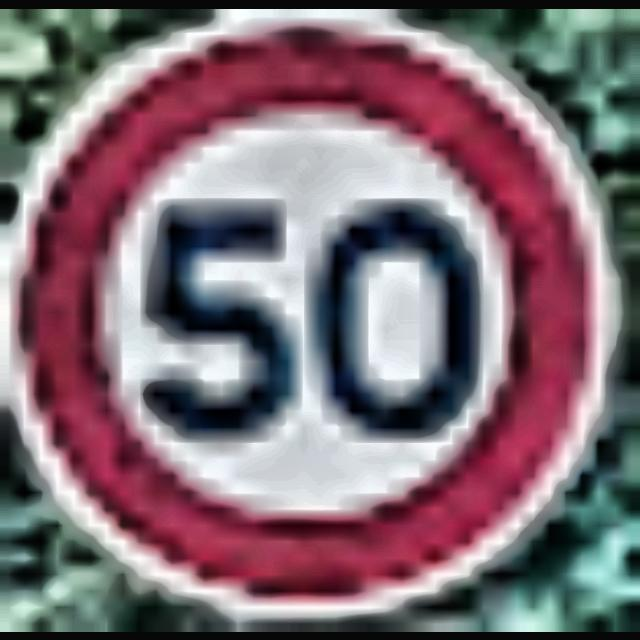speed_50: (1, 8, 624, 616)
